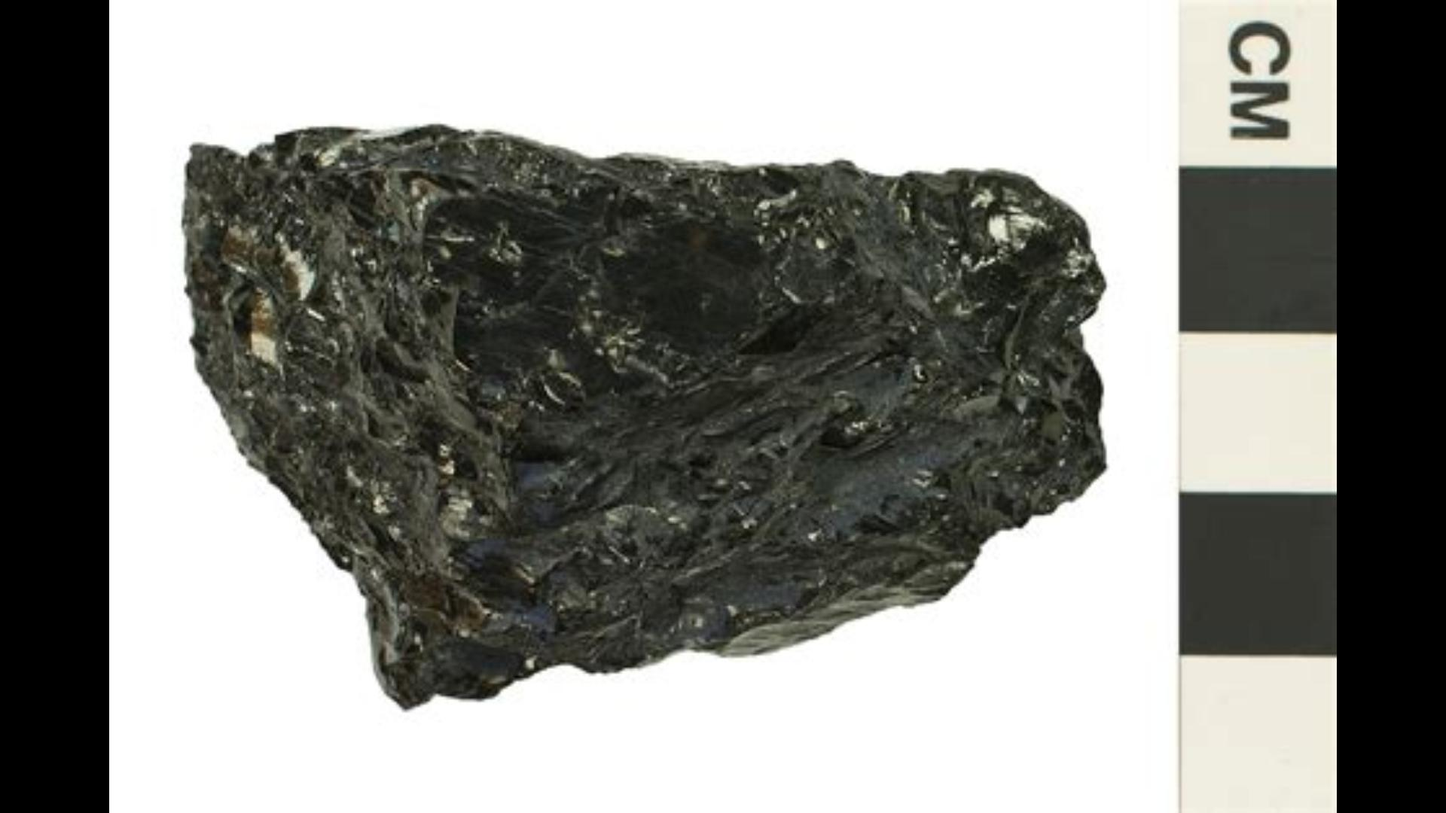rock: (195, 127, 1101, 704)
